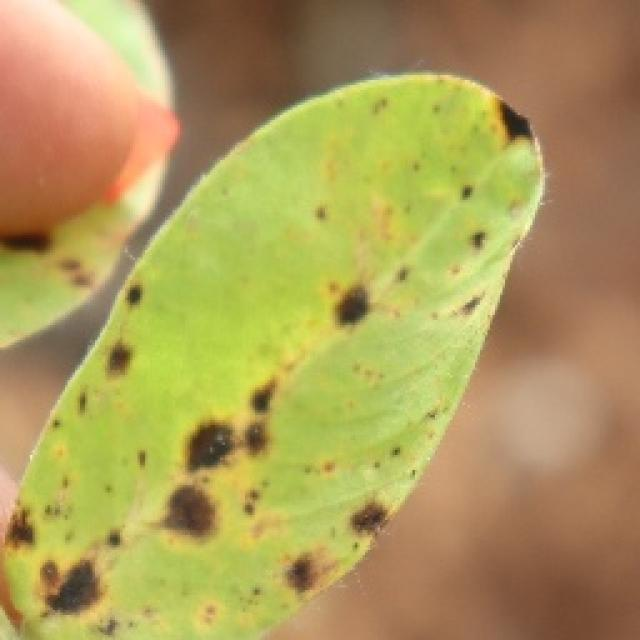Yellowish: (0, 77, 552, 637)
